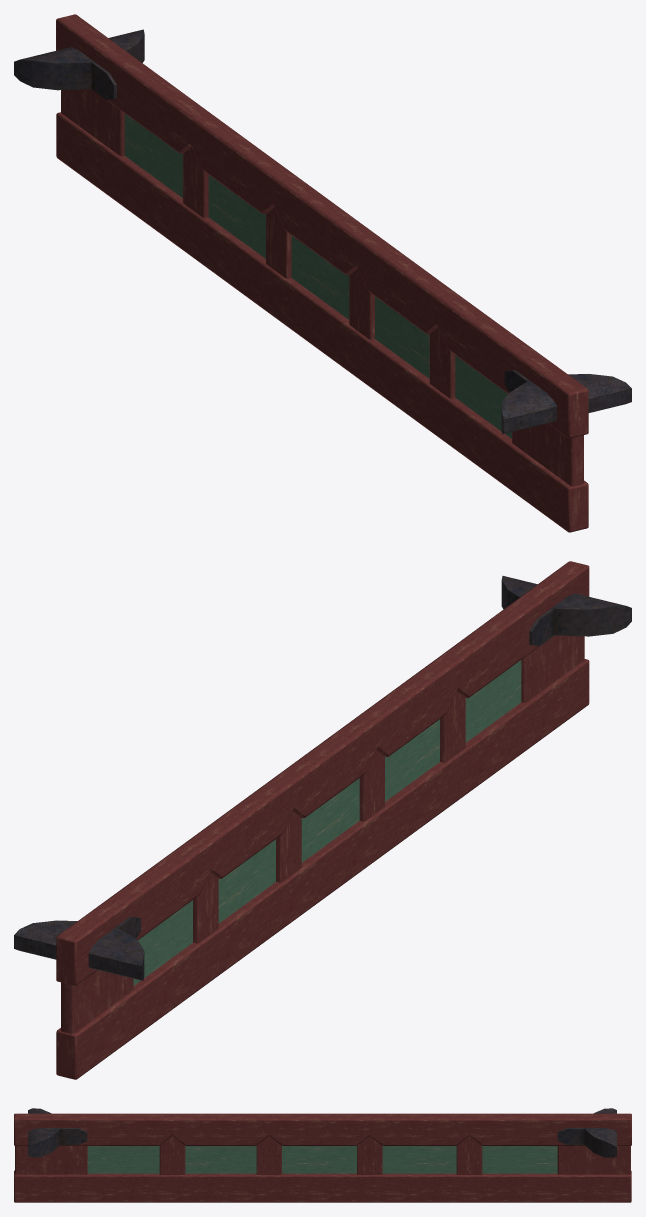
The model's file is SM_Railing02a.fbx.
3 renders of one model, top to bottom at view 1: azimuth 30°, elevation 25°; view 2: azimuth 150°, elevation 25°; view 3: azimuth 270°, elevation 25°, orthographic. The views are drawn at different scales.
Parts seen in each view (by area): view 1: SM_Railing02a; view 2: SM_Railing02a; view 3: SM_Railing02a.
Boxes of the visible parts, x1,y1,x2,y2 form: SM_Railing02a: (14,14,631,532); SM_Railing02a: (14,561,631,1079); SM_Railing02a: (14,1108,631,1202).
Size of the model in its own units: 43.42 by 300 by 45.
Materials: 3 (3 with a texture image).
